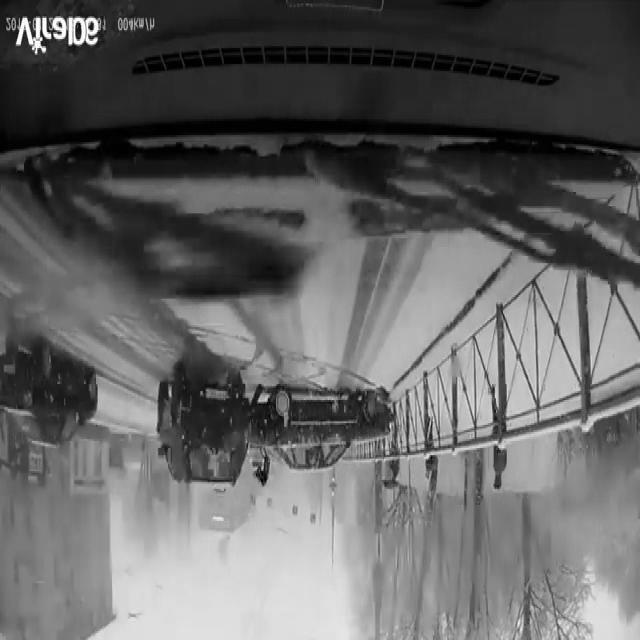moderate: (151, 367, 403, 500)
